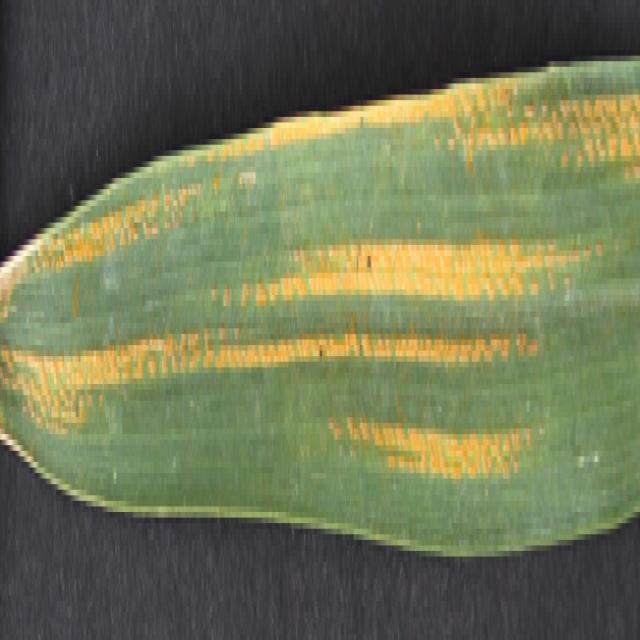leaf rust: (1, 50, 640, 473)
